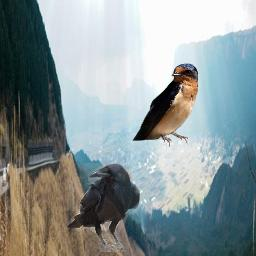Crow: (67, 163, 140, 252)
Swallow: (132, 63, 198, 149)
